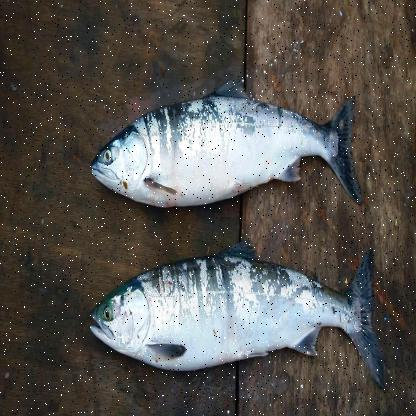fish: (91, 235, 387, 389), (90, 75, 361, 217)
